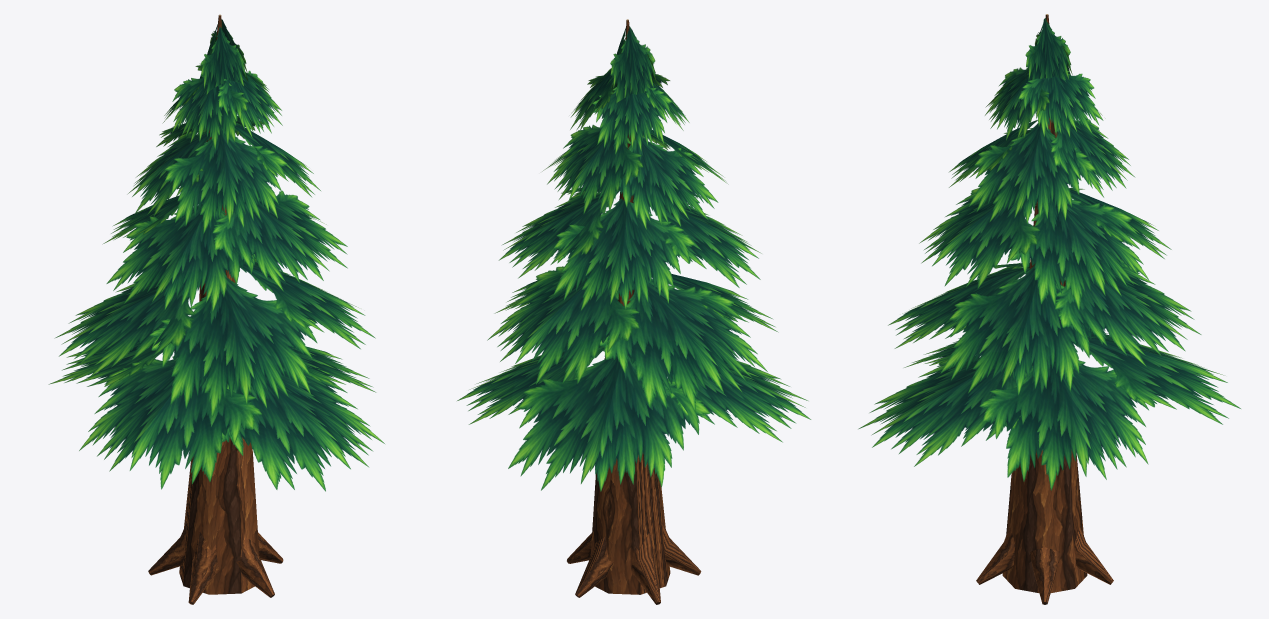
The model's file is source_4.glb.
The picture shows the model from 3 angles, left to right: view 1: azimuth 30°, elevation 25°; view 2: azimuth 150°, elevation 25°; view 3: azimuth 270°, elevation 25°; orthographic projection.
Parts seen in each view (by area): view 1: woodland-pine-b · evaluated preview mesh; view 2: woodland-pine-b · evaluated preview mesh; view 3: woodland-pine-b · evaluated preview mesh.
Part boxes in pixels (x1=…): woodland-pine-b · evaluated preview mesh: x1=48, y1=14, x2=384, y2=604; woodland-pine-b · evaluated preview mesh: x1=457, y1=19, x2=810, y2=604; woodland-pine-b · evaluated preview mesh: x1=858, y1=14, x2=1240, y2=604.
Size of the model in its own units: 7.11 by 11.42 by 7.55.
Materials: 3 (2 with a texture image).
